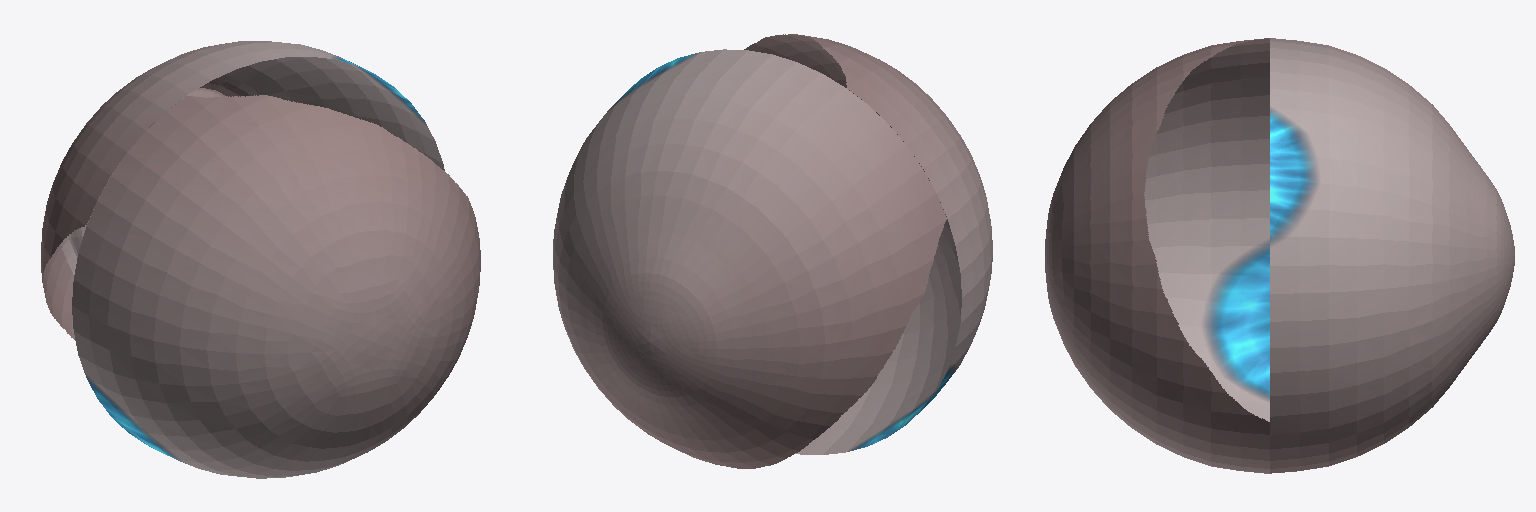
The picture shows the model from 3 angles: view 1: azimuth 30°, elevation 25°; view 2: azimuth 150°, elevation 25°; view 3: azimuth 270°, elevation 25°; orthographic projection.
Visible parts, largest first — view 1: low_meshId0_name; view 2: low_meshId0_name; view 3: low_meshId0_name.
Part boxes in pixels (x1,y1,x2,y2): low_meshId0_name: (41, 41, 480, 478); low_meshId0_name: (553, 34, 992, 468); low_meshId0_name: (1045, 38, 1514, 473).
Bounding box in the file's own units: 0.2411 × 0.2411 × 0.26.
1 materials, 1 textured.